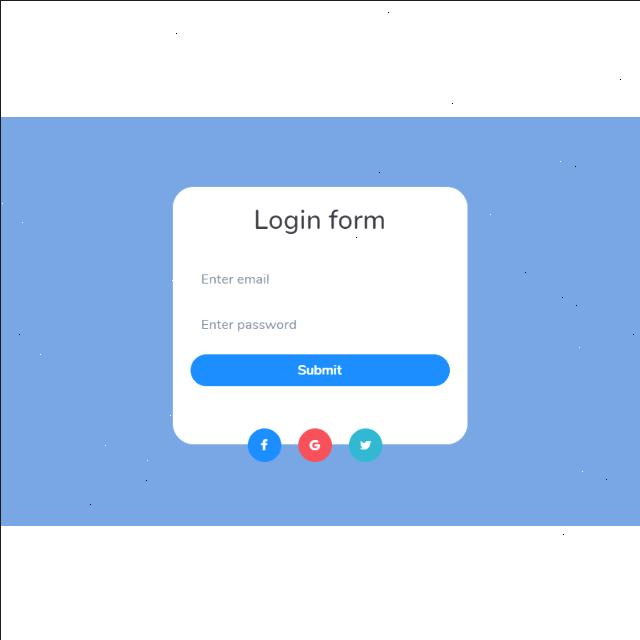QLabel: (252, 205, 388, 231), (294, 362, 342, 374)
VBtn: (190, 350, 450, 386)
VCard: (170, 185, 466, 442)
VIcon: (294, 424, 332, 462), (245, 426, 285, 462), (346, 426, 382, 462)
VTextField: (188, 260, 448, 296), (190, 304, 448, 340)
